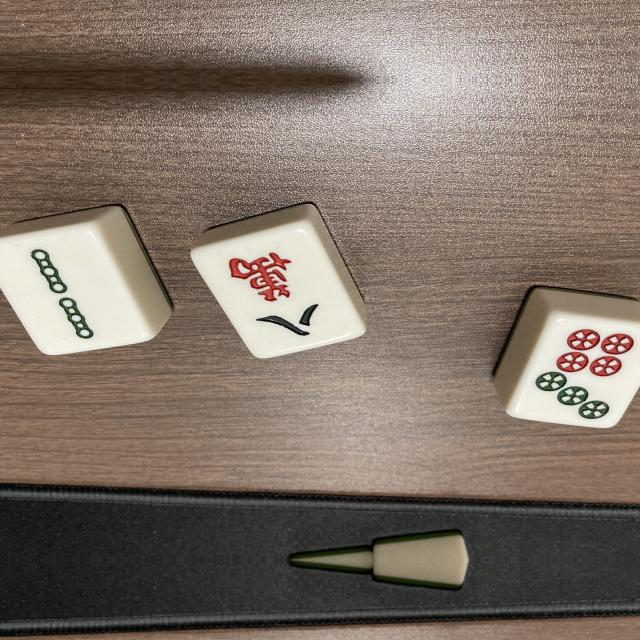2B: (0, 218, 150, 362)
7D: (510, 315, 640, 435)
8C: (193, 211, 364, 364)
